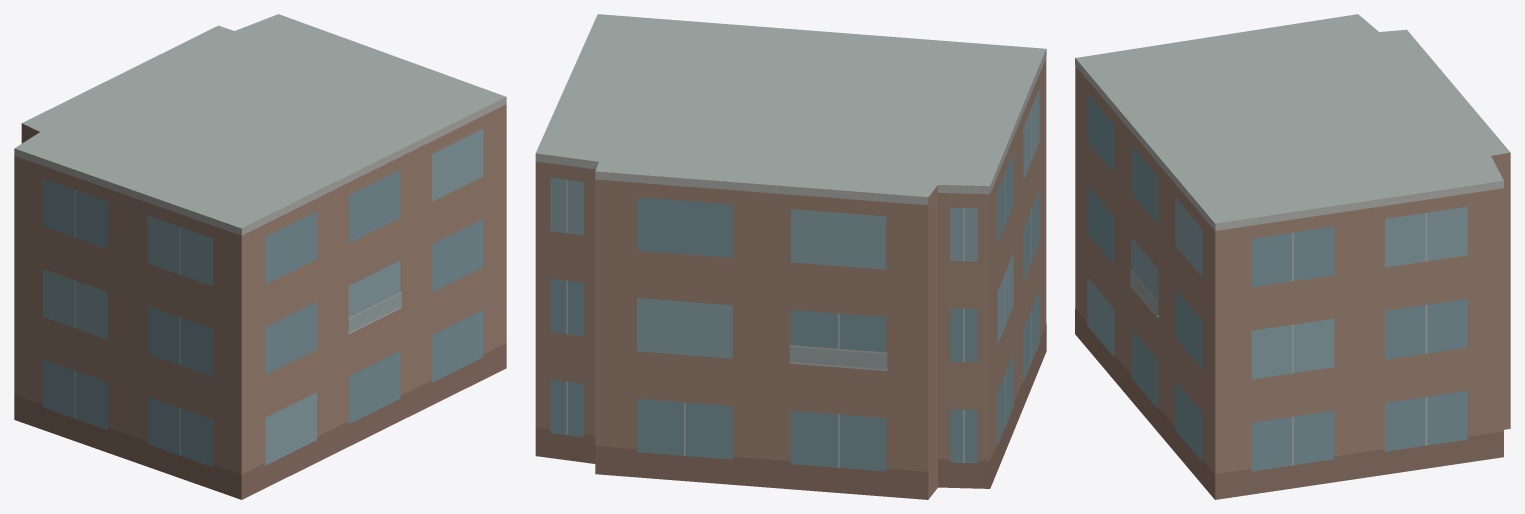
File: survey-upis-32806538.glb
3 renders of one model, left to right at view 1: azimuth 30°, elevation 25°; view 2: azimuth 150°, elevation 25°; view 3: azimuth 270°, elevation 25°, orthographic. The views are drawn at different scales.
Visible parts, largest first — view 1: survey-upis-32806538.tmp; view 2: survey-upis-32806538.tmp; view 3: survey-upis-32806538.tmp.
Part boxes in pixels (x1,y1,x2,y2): survey-upis-32806538.tmp: [14, 14, 506, 499]; survey-upis-32806538.tmp: [535, 14, 1046, 499]; survey-upis-32806538.tmp: [1075, 14, 1510, 499].
Bounding box in the file's own units: 14.91 × 9.15 × 13.08.
